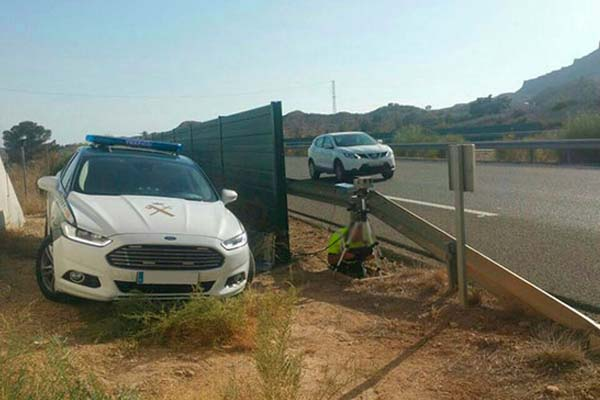Cartel: (445, 142, 480, 196)
Poste: (450, 142, 474, 312)
Valla: (186, 109, 296, 274)
Vehiculo: (35, 131, 259, 308)
